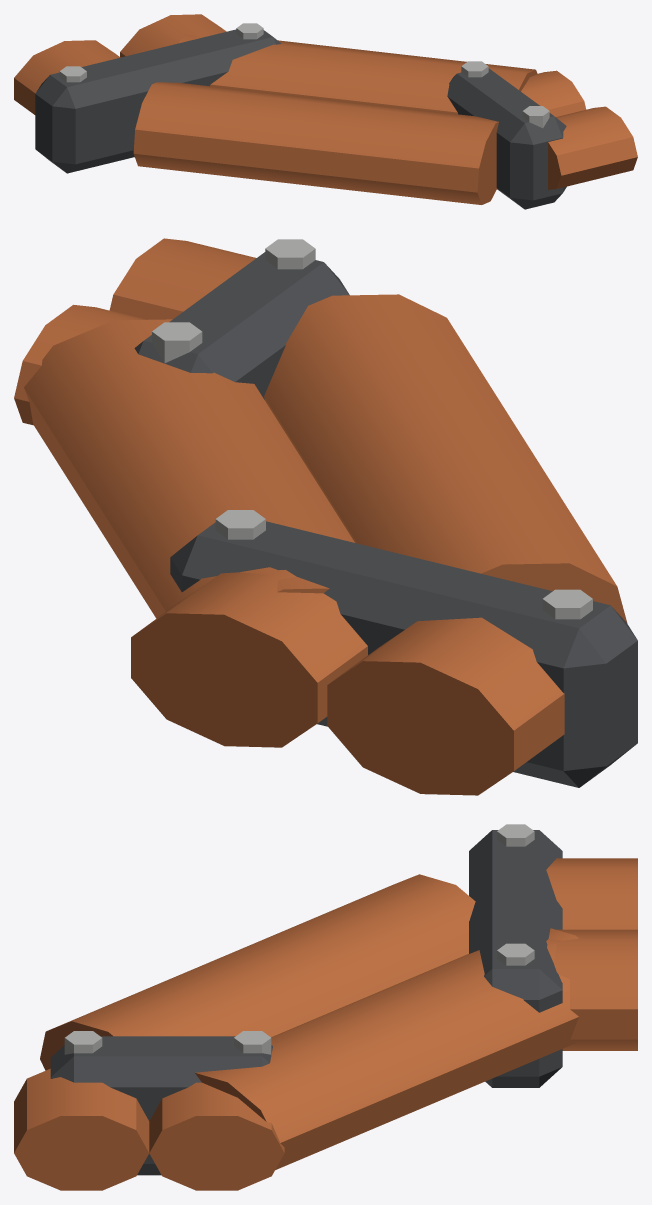
The model's file is heat-pipe-corner-up-right.glb.
3 renders of one model, top to bottom at view 1: azimuth 30°, elevation 25°; view 2: azimuth 150°, elevation 25°; view 3: azimuth 270°, elevation 25°, orthographic. The views are drawn at different scales.
Visible parts, largest first — view 1: body; view 2: body; view 3: body.
Part boxes in pixels (x1=…): body: x1=14, y1=14, x2=637, y2=209; body: x1=14, y1=238, x2=637, y2=795; body: x1=14, y1=824, x2=637, y2=1190.
Size of the model in its own units: 0.7 by 0.15 by 0.664.
